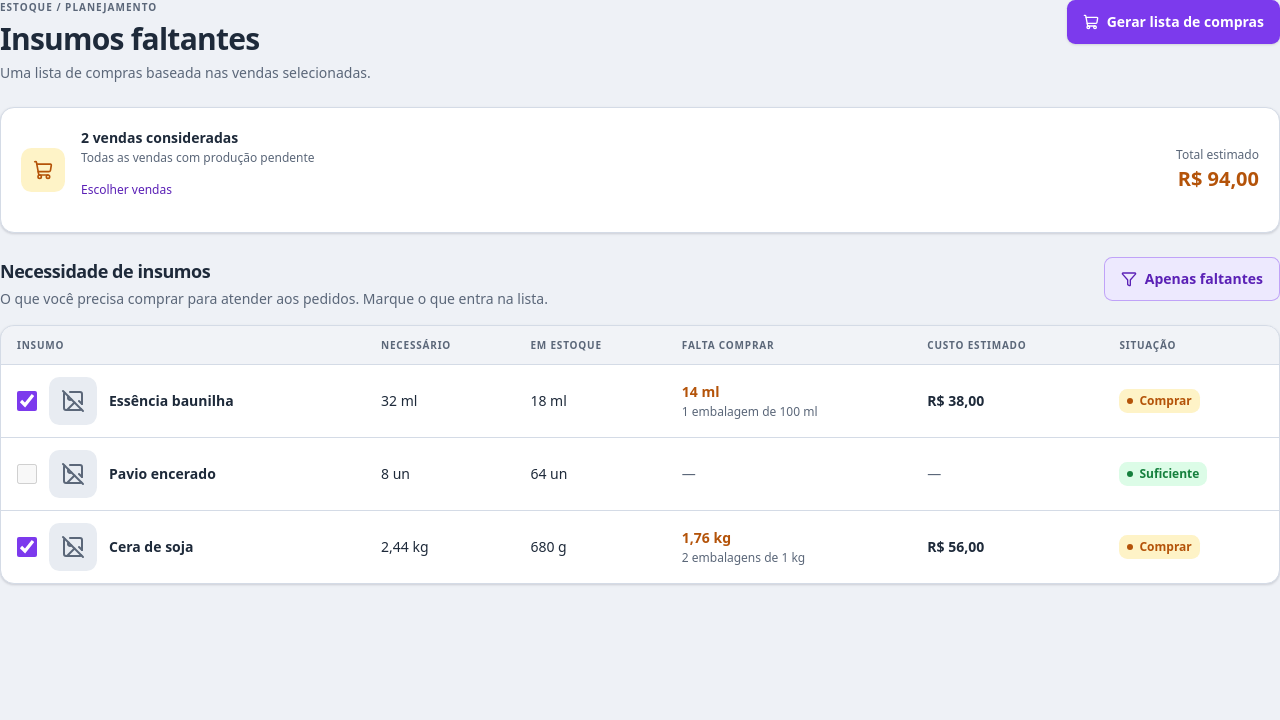
Scenario: the sales the list is built from › lets the person choose which ones, and asks the API again for only those
The width and height of the screenshot is (1280, 720).
Expected: the table named "Necessidade de insumos" is shown, [1,326,1279,583]
Click the button "Escolher vendas": [126, 190] box [69,168,184,212]
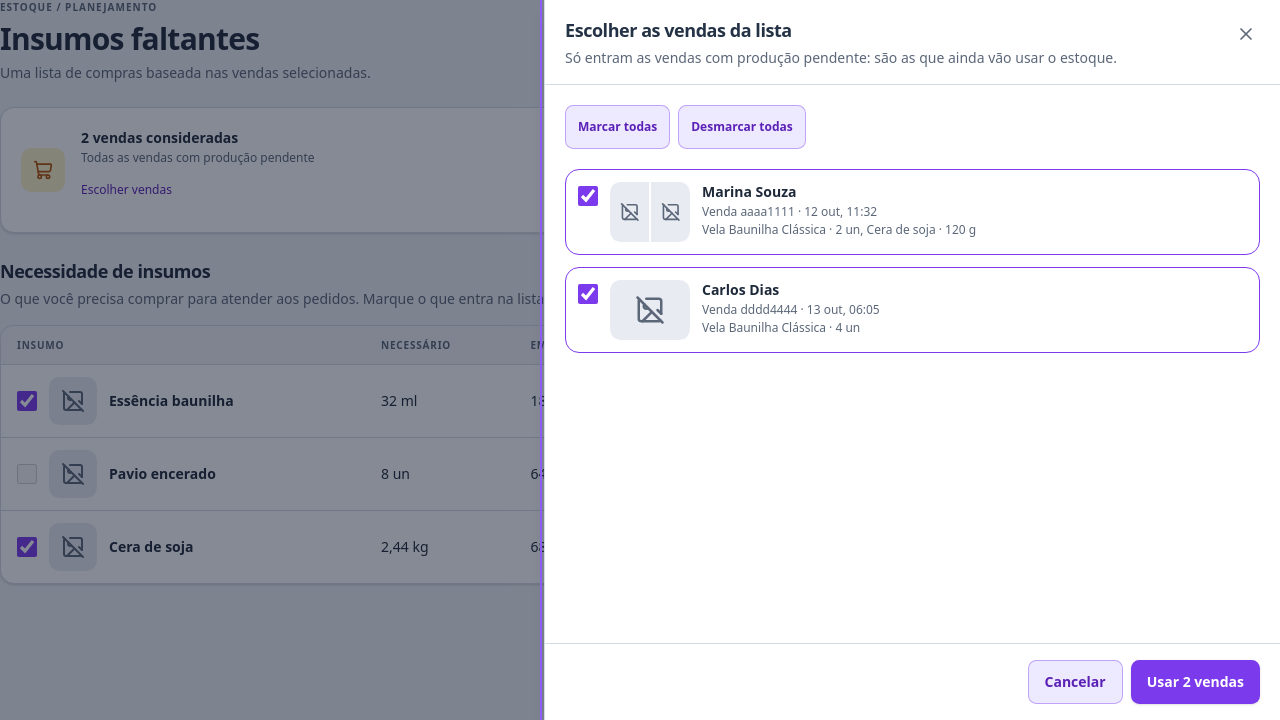
Expected: the checkbox labelled "Marina Souza" is checked, [578,186,598,206]
Click the checkbox labelled "Carlos Dias": [588, 294] box [578,284,598,304]
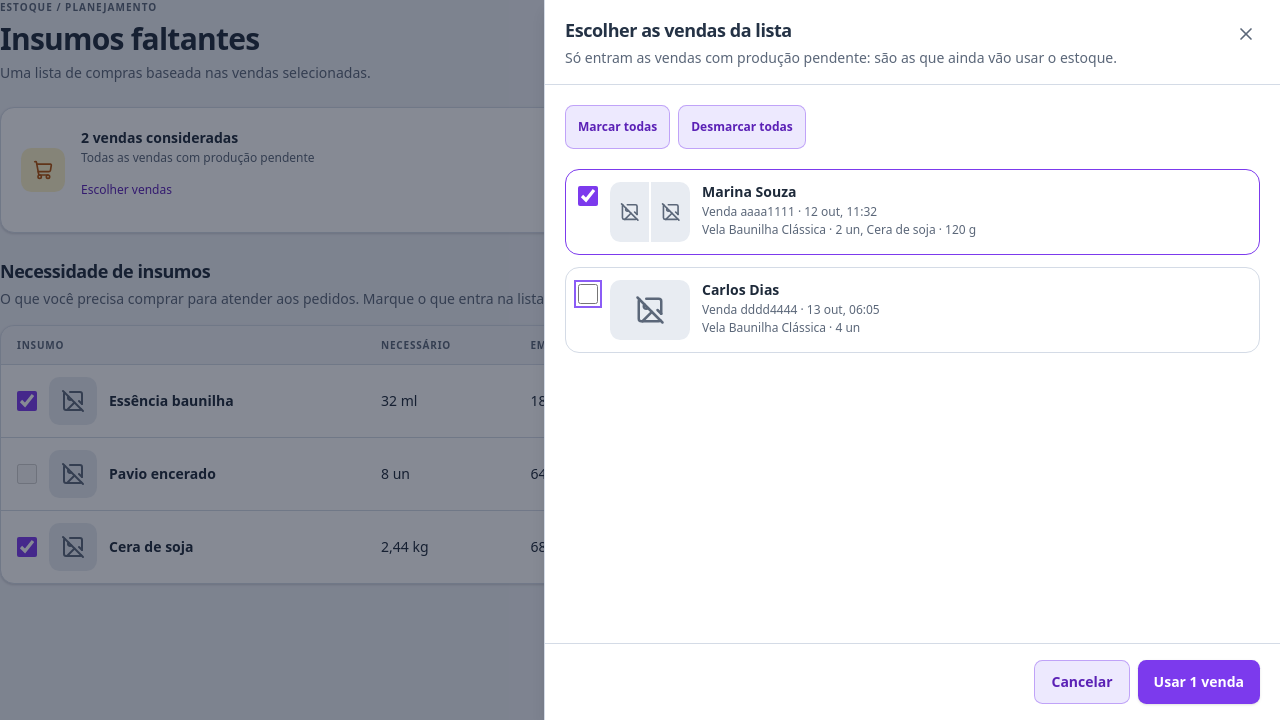
Click the button "Usar 1 venda": [1199, 682] box [1138,660,1260,704]
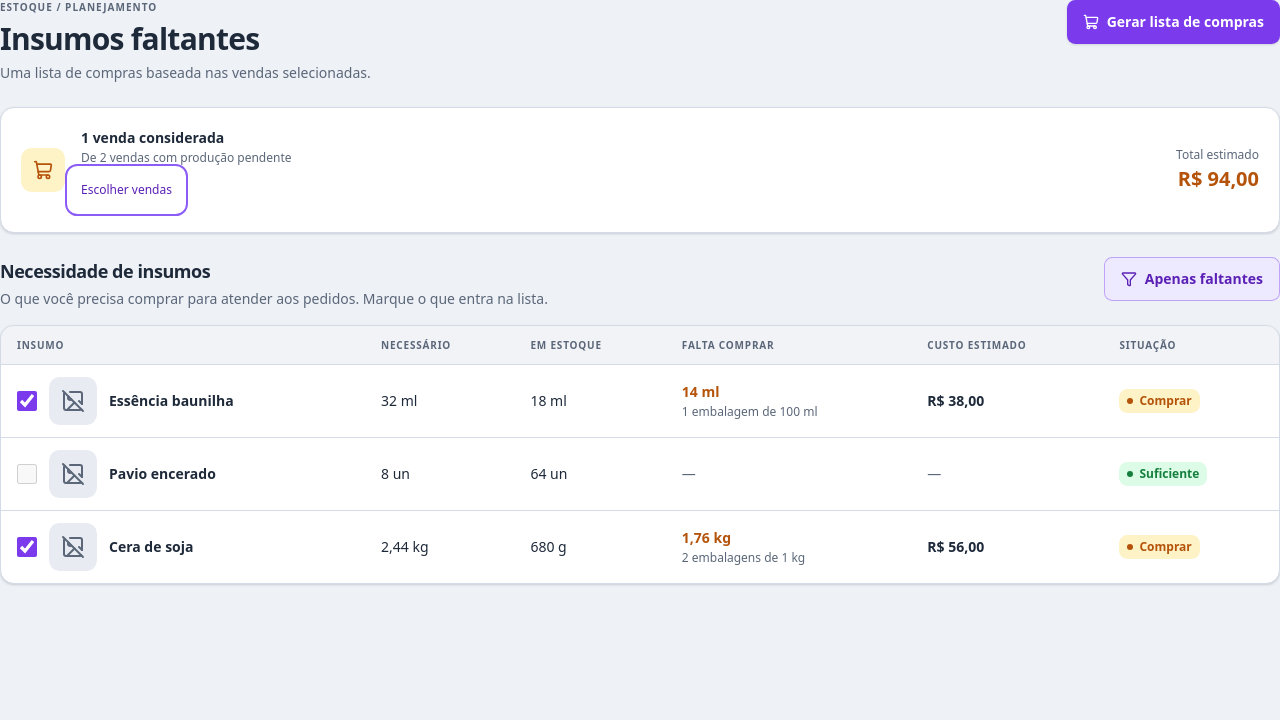
Expected: the text "1 venda considerada" is shown, [81,128,224,147]
Expected: the text "De 2 vendas com produção pendente" is shown, [81,150,292,166]
